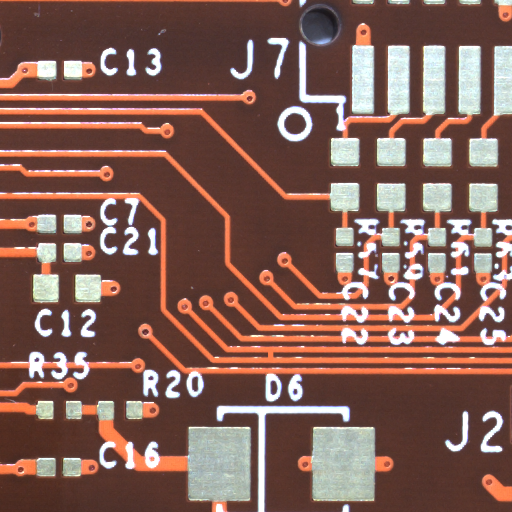Short: (270, 354, 280, 365)
